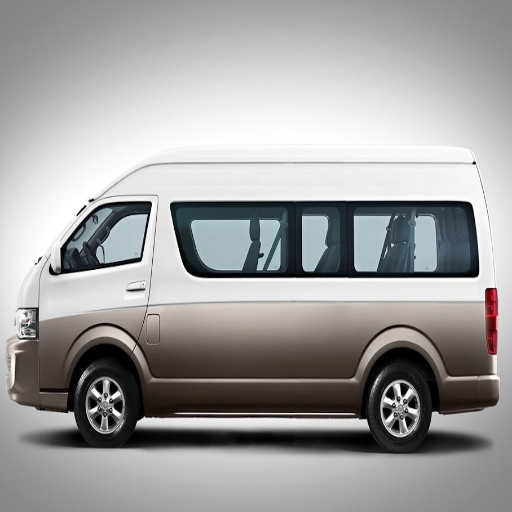back_left_door: (81, 209, 141, 270), (287, 336, 334, 406)
trunk: (315, 283, 501, 410), (31, 315, 95, 393)
